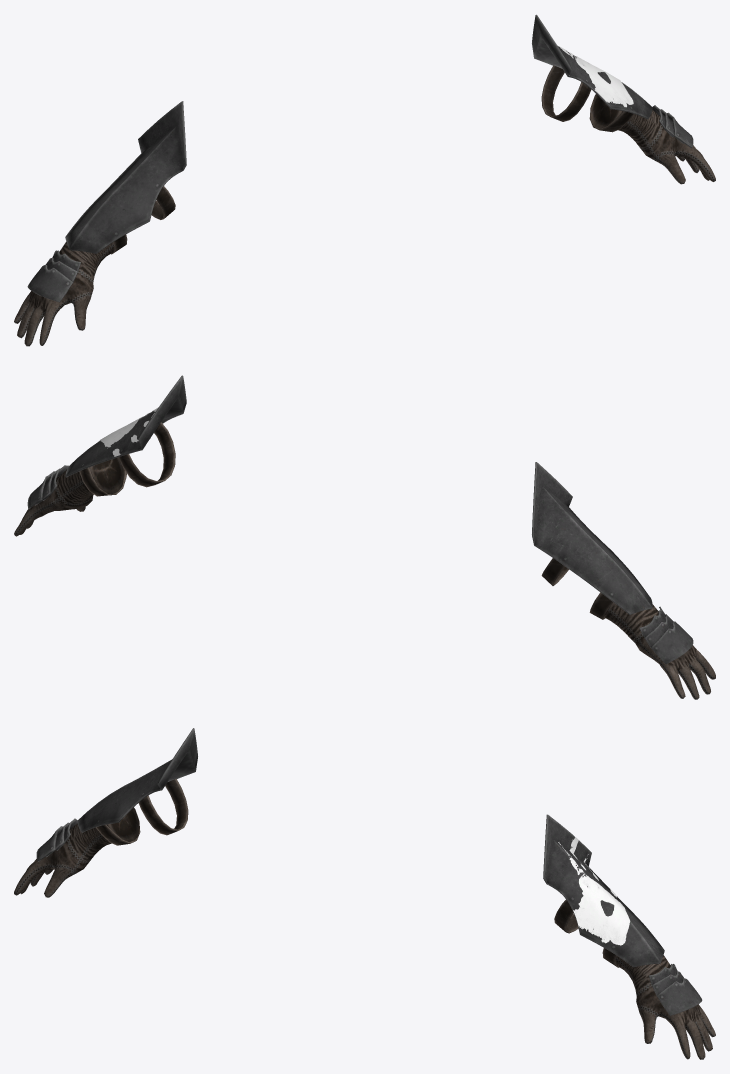
File: sk_uruk_hai_bracer_heavy_b2.fbx
3 views of the same model, one above another, from view 1: azimuth 30°, elevation 25°; view 2: azimuth 150°, elevation 25°; view 3: azimuth 330°, elevation 25° (orthographic).
Parts seen in each view (by area): view 1: sk_uruk_hai_bracer_heavy_b2.0, sk_uruk_hai_bracer_heavy_b2.1, sk_uruk_hai_bracer_heavy_b2.2; view 2: sk_uruk_hai_bracer_heavy_b2.0, sk_uruk_hai_bracer_heavy_b2.1; view 3: sk_uruk_hai_bracer_heavy_b2.0, sk_uruk_hai_bracer_heavy_b2.1, sk_uruk_hai_bracer_heavy_b2.2.
Part boxes in pixels (x1,y1,x2,y2): sk_uruk_hai_bracer_heavy_b2.0: (27, 14, 693, 302); sk_uruk_hai_bracer_heavy_b2.1: (14, 65, 715, 346); sk_uruk_hai_bracer_heavy_b2.2: (557, 45, 633, 107); sk_uruk_hai_bracer_heavy_b2.0: (27, 375, 693, 664); sk_uruk_hai_bracer_heavy_b2.1: (14, 422, 715, 699); sk_uruk_hai_bracer_heavy_b2.0: (36, 728, 702, 1015); sk_uruk_hai_bracer_heavy_b2.1: (14, 779, 715, 1059); sk_uruk_hai_bracer_heavy_b2.2: (548, 836, 630, 945).
Size of the model in its own units: 1.59 by 0.1938 by 0.4423.
Materials: 3 (3 with a texture image).
